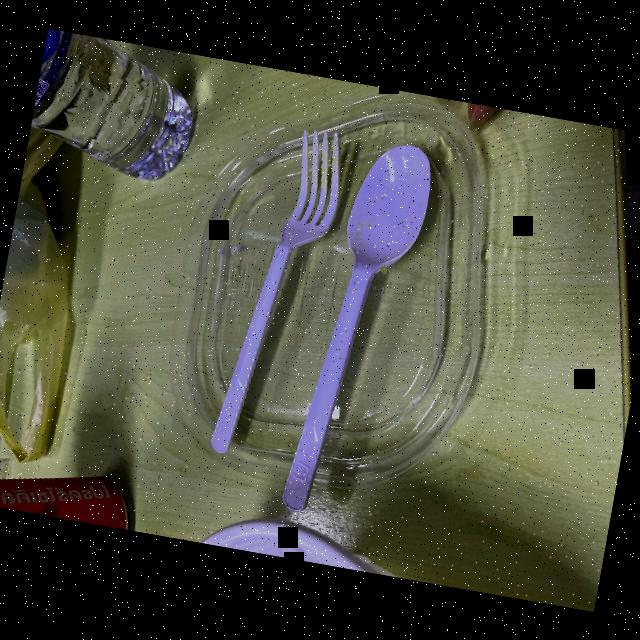plastic_spoon: (258, 132, 444, 528), (180, 117, 358, 466)
